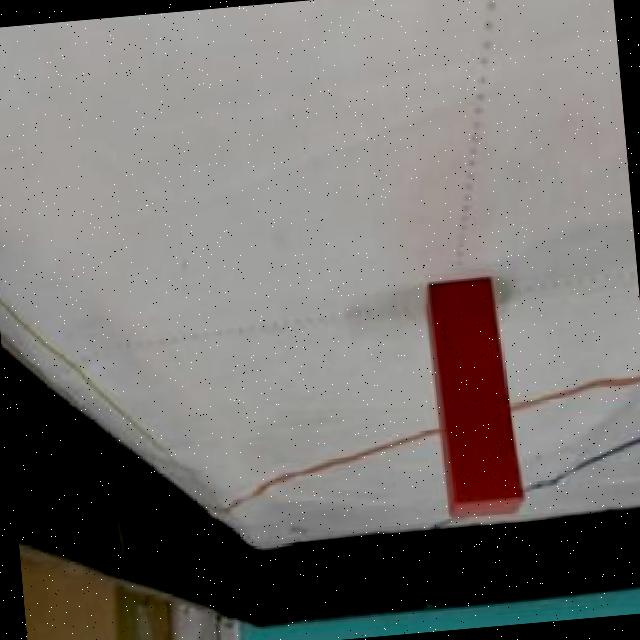redbox: (422, 276, 526, 522)
